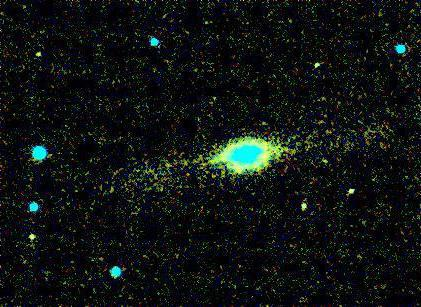star: (311, 145, 341, 175)
